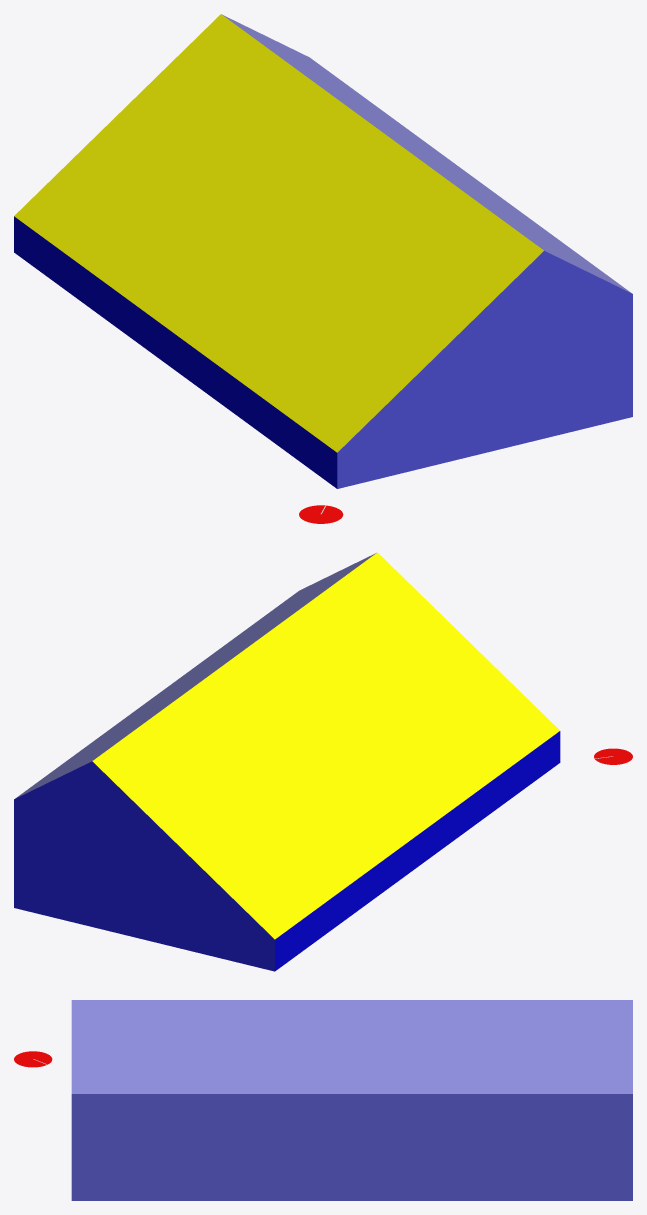
The model's file is result.glb.
The picture shows the model from 3 angles, top to bottom: view 1: azimuth 30°, elevation 25°; view 2: azimuth 150°, elevation 25°; view 3: azimuth 270°, elevation 25°; orthographic projection. The views are drawn at different scales.
Visible parts, largest first — view 1: bbb2b81e-b7b1-4ec2-8d8f-330cd73bd387__undefined, d8932bea-9533-4e6e-aab8-8a24398dd712__undefined, f194f099-5507-48b1-b5e4-48dfb37e92c1__undefined, dcdae9d7-ae18-4e38-ac00-dfdeaed010b6__undefined; view 2: bbb2b81e-b7b1-4ec2-8d8f-330cd73bd387__undefined, 5b8ccfba-fd2e-4bba-9a4b-484d8267857d__undefined, f194f099-5507-48b1-b5e4-48dfb37e92c1__undefined, dcdae9d7-ae18-4e38-ac00-dfdeaed010b6__undefined; view 3: 38a4d22d-2fe0-40c2-98eb-040b1608335a__undefined, dcdae9d7-ae18-4e38-ac00-dfdeaed010b6__undefined, 261e6b6a-6998-4c29-9f66-f8dc73126ff9__Circle.
Boxes of the visible parts, x1,y1,x2,y2 form: bbb2b81e-b7b1-4ec2-8d8f-330cd73bd387__undefined: (14, 14, 543, 452); d8932bea-9533-4e6e-aab8-8a24398dd712__undefined: (337, 250, 632, 488); f194f099-5507-48b1-b5e4-48dfb37e92c1__undefined: (14, 216, 337, 488); dcdae9d7-ae18-4e38-ac00-dfdeaed010b6__undefined: (221, 14, 630, 292); bbb2b81e-b7b1-4ec2-8d8f-330cd73bd387__undefined: (92, 552, 559, 939); 5b8ccfba-fd2e-4bba-9a4b-484d8267857d__undefined: (14, 761, 274, 971); f194f099-5507-48b1-b5e4-48dfb37e92c1__undefined: (275, 731, 560, 971); dcdae9d7-ae18-4e38-ac00-dfdeaed010b6__undefined: (15, 553, 376, 798); 38a4d22d-2fe0-40c2-98eb-040b1608335a__undefined: (71, 1094, 632, 1200); dcdae9d7-ae18-4e38-ac00-dfdeaed010b6__undefined: (71, 1000, 632, 1093); 261e6b6a-6998-4c29-9f66-f8dc73126ff9__Circle: (14, 1051, 52, 1067).
Bounding box in the file's own units: 923 × 469 × 1614.
